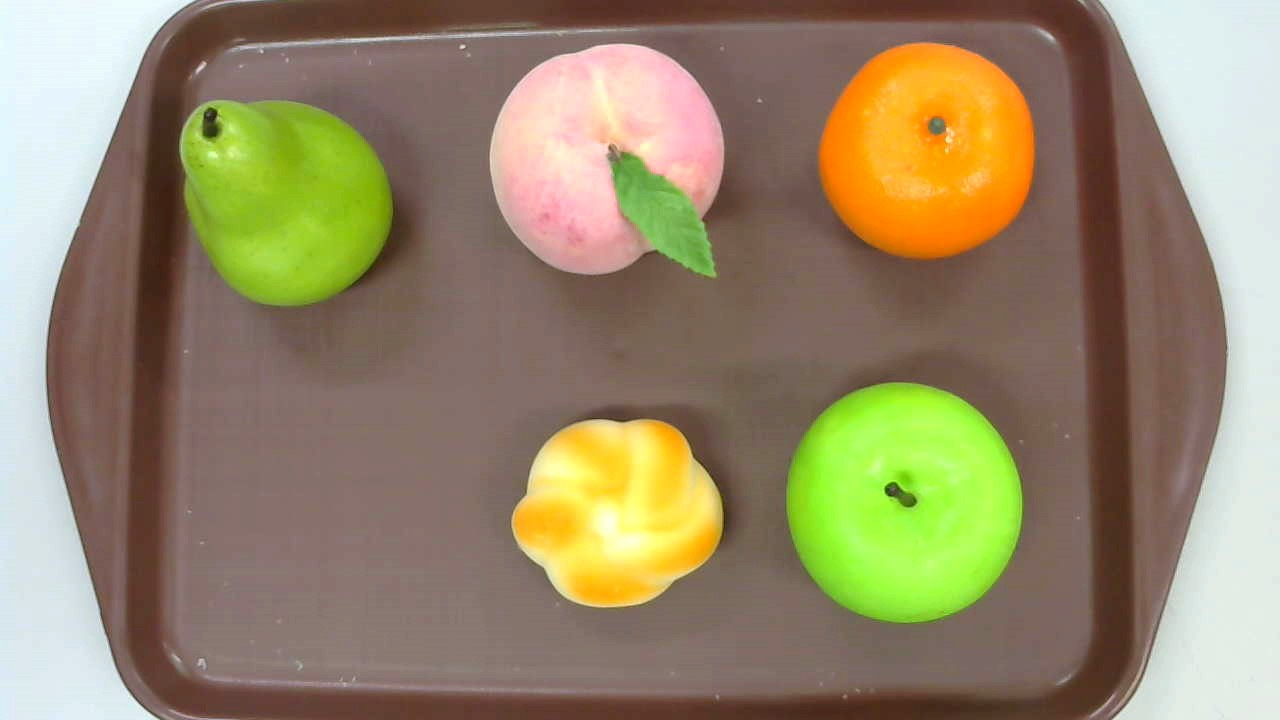green apple: (784, 381, 1023, 625)
green pear: (178, 98, 394, 308)
orange: (818, 41, 1035, 262)
peaches: (489, 42, 727, 281)
twist bread: (510, 418, 723, 610)
